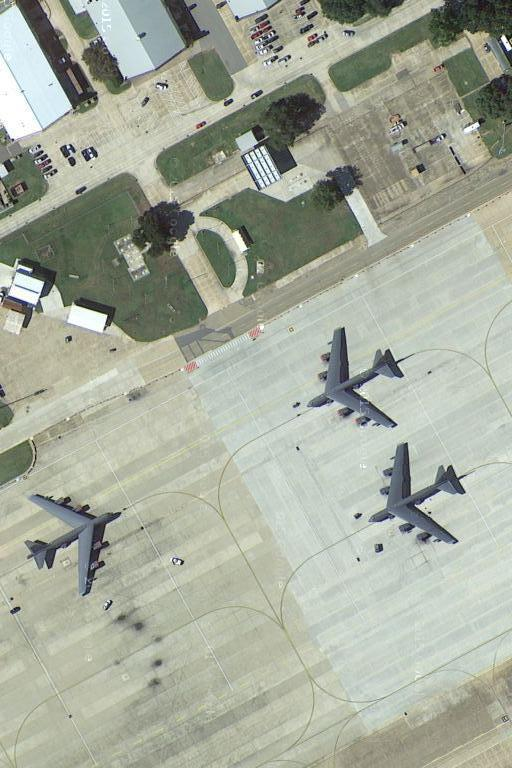B-52: (362, 436, 471, 552), (303, 323, 412, 431), (21, 486, 124, 599)
